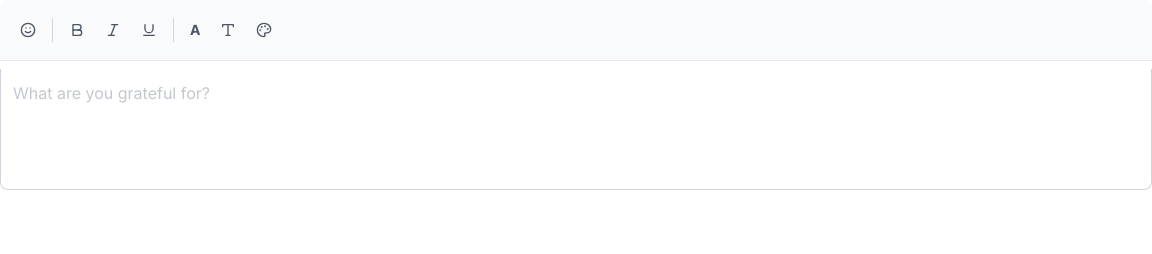
RichTextEditor Z-Index Fix › creates portal-based dropdowns with fixed positioning
Click the button titled "Text Size" at (195, 30), box top-left (182, 12), bottom-right (208, 48)
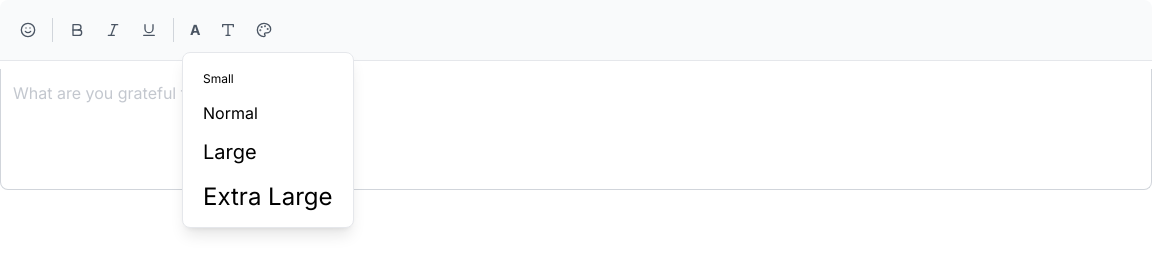
Now the element showing "Small Normal Large Extra Large" is shown, box top-left (182, 52), bottom-right (354, 228)
